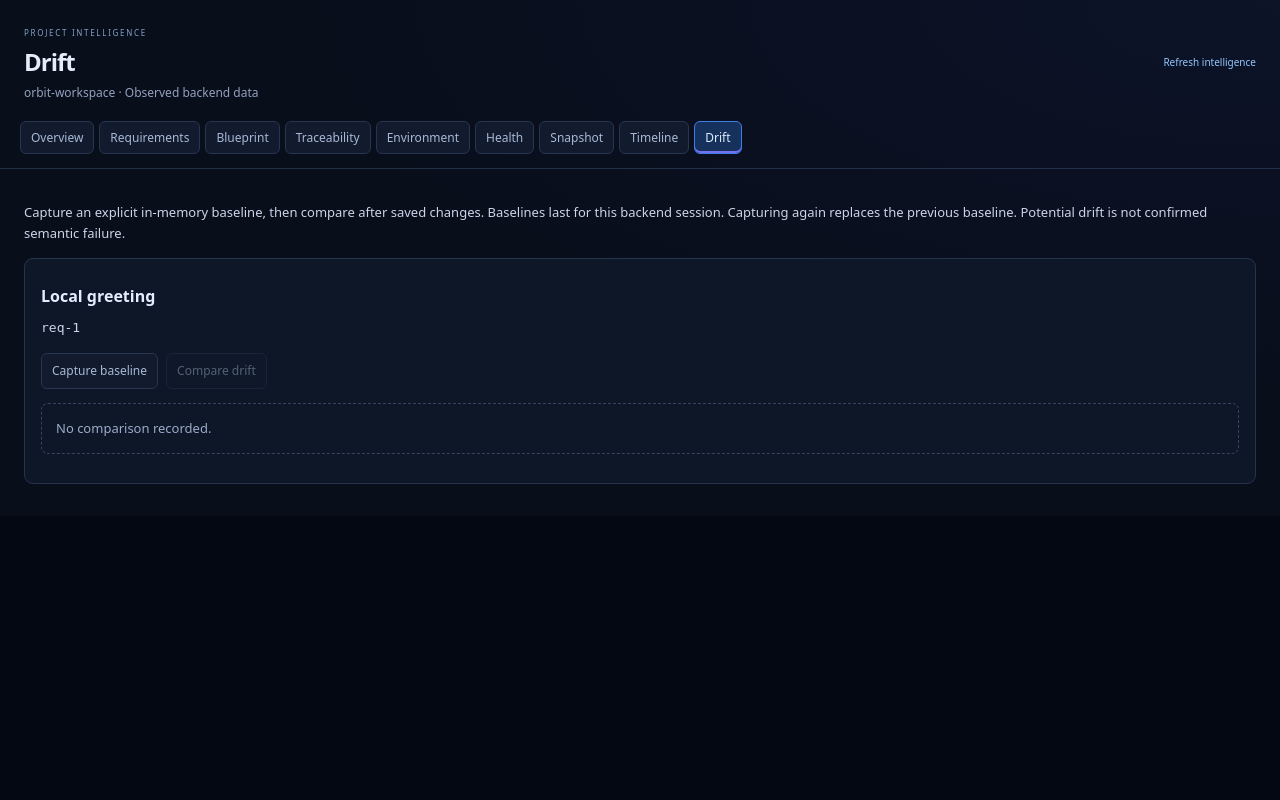
Test case: requires an explicit baseline before comparison and presents POTENTIAL_DRIFT unchanged
Expected: the button "Refresh intelligence" is enabled, [1163, 50, 1256, 74]
Expected: the button "Compare drift" is disabled, [166, 353, 267, 388]
Click the button "Capture baseline" at (100, 371), box [41, 353, 158, 388]
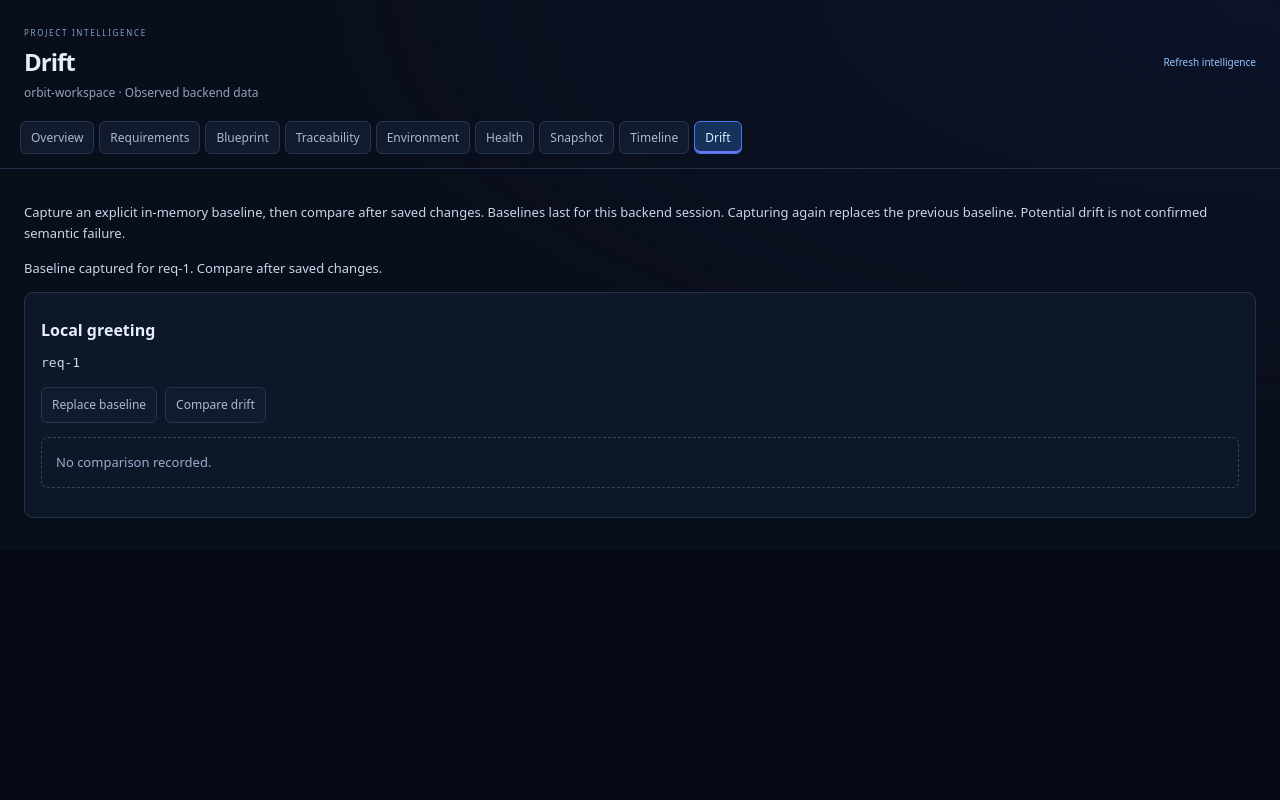
Expected: the button "Replace baseline" is shown, [41, 387, 157, 423]
Click the button "Compare drift" at (215, 405), box [165, 387, 266, 423]
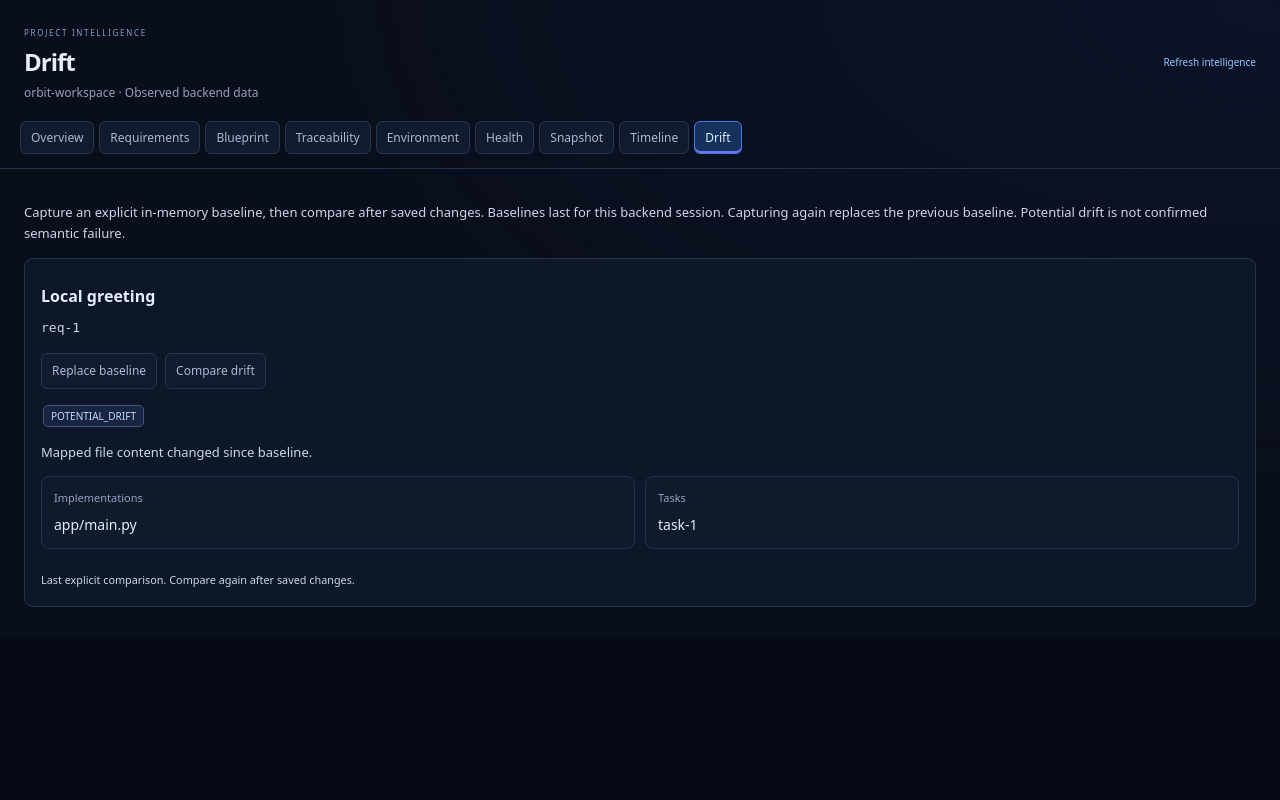
Expected: the text "POTENTIAL_DRIFT" is shown, [43, 404, 144, 427]
Expected: the text "app/main.py" is shown, [54, 515, 137, 534]
